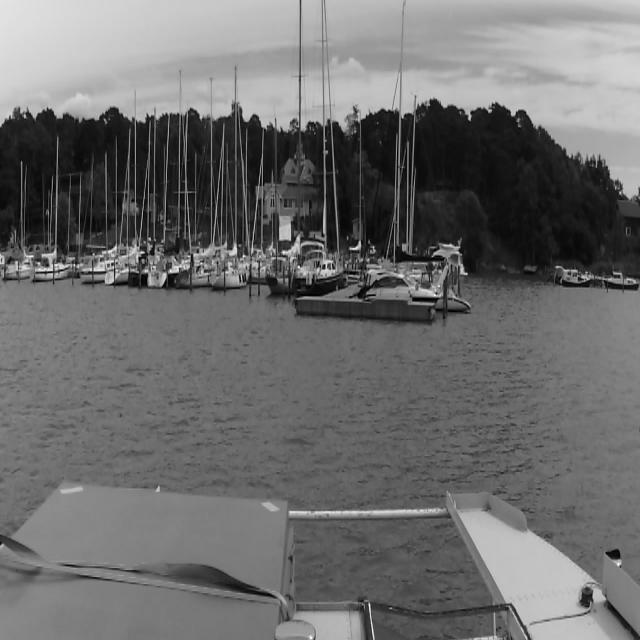ship: (368, 41, 471, 311), (288, 19, 344, 301), (213, 55, 241, 292), (178, 71, 204, 289), (35, 138, 69, 282), (146, 98, 168, 292), (362, 271, 440, 325), (123, 87, 143, 286), (6, 155, 29, 278), (82, 148, 100, 284), (268, 115, 280, 296), (103, 127, 115, 287), (602, 266, 638, 295), (554, 263, 590, 286)
